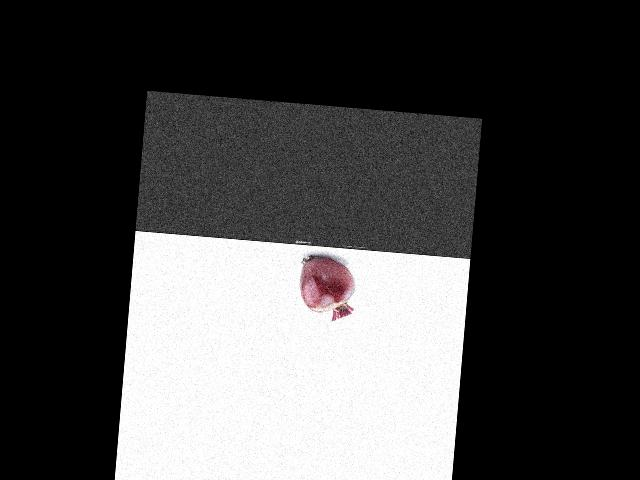beet: (297, 255, 357, 322)
